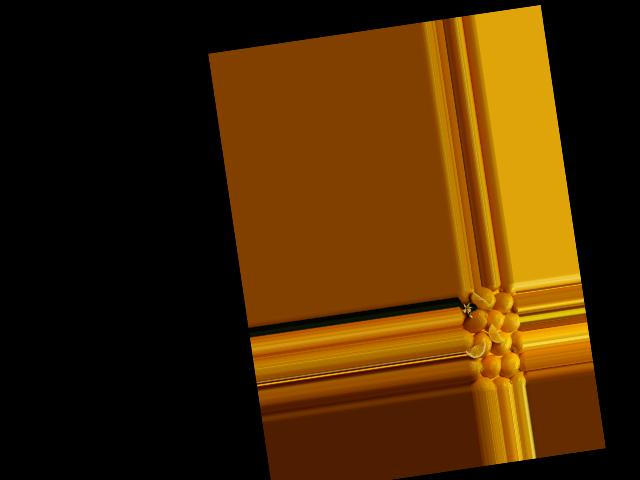lemon: (466, 356, 488, 380)
